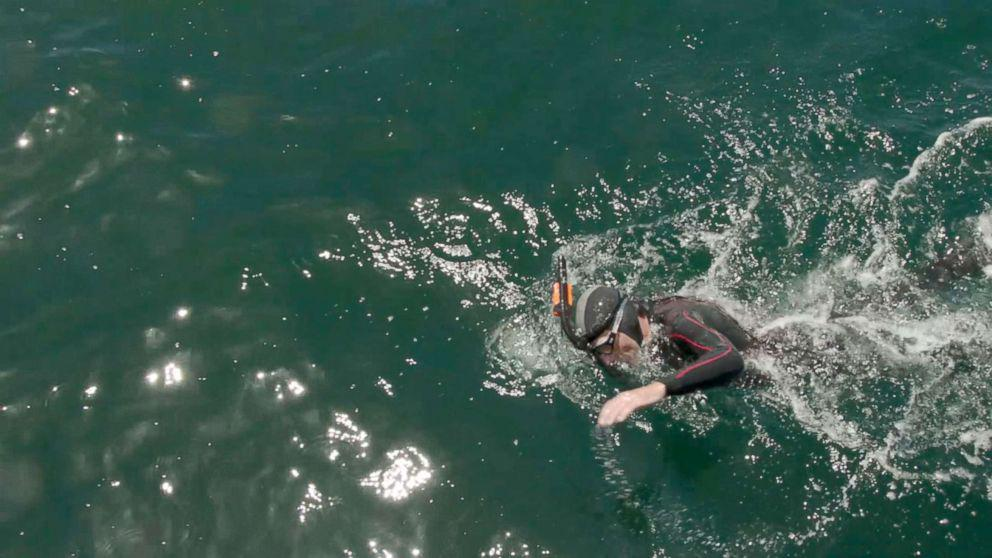swimmer: (560, 272, 768, 432)
